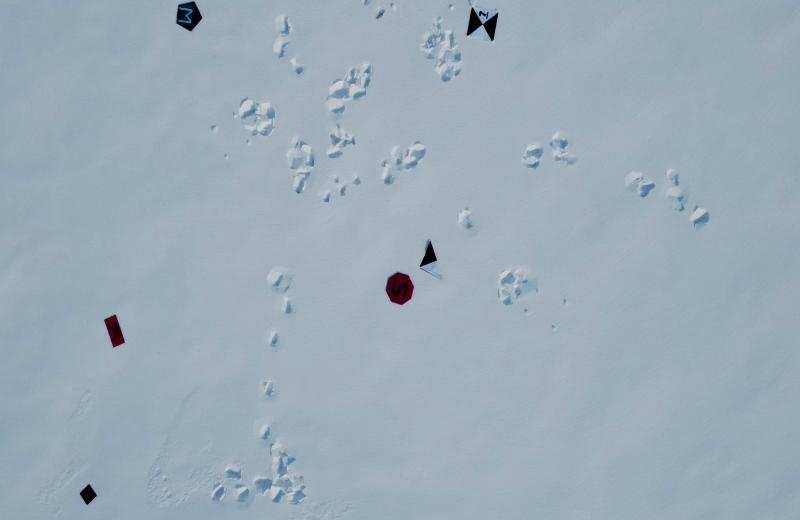Octagon: (380, 268, 416, 308)
Pentagon: (174, 0, 208, 37)
Rectangle: (100, 312, 130, 349)
Square: (78, 482, 99, 506)
